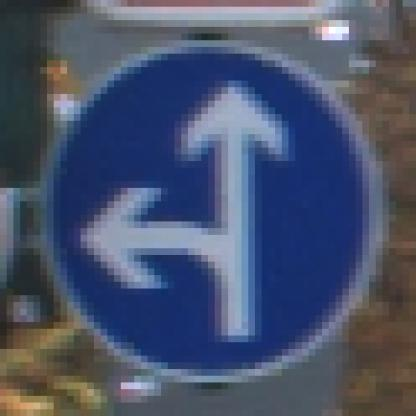Straight or Left: (35, 35, 384, 384)
